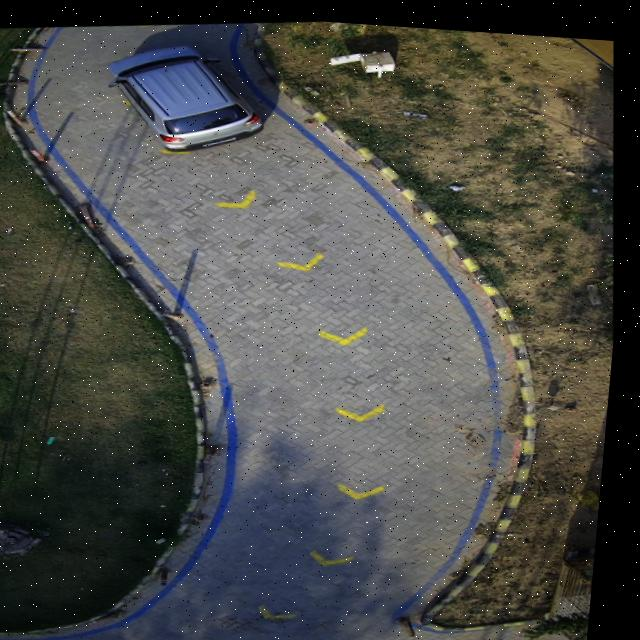car: (110, 42, 264, 148)
